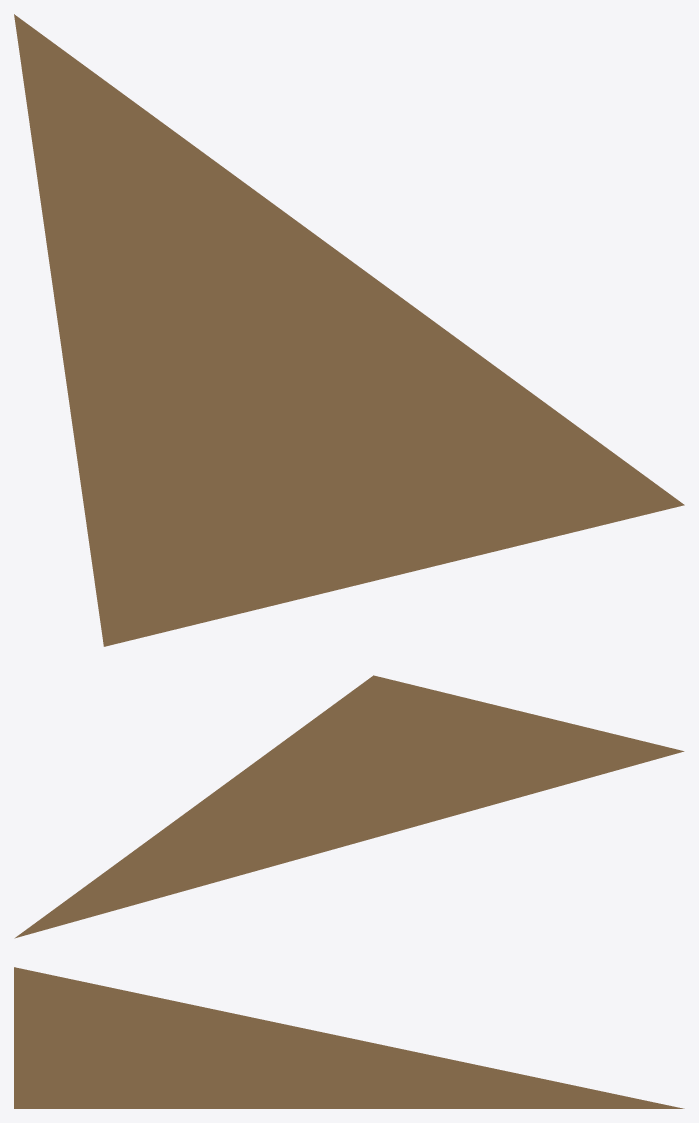
3 views of the same model, one above another, from view 1: azimuth 30°, elevation 25°; view 2: azimuth 150°, elevation 25°; view 3: azimuth 270°, elevation 25° (orthographic). The views are drawn at different scales.
Parts seen in each view (by area): view 1: A2-STAIR-T02; view 2: A2-STAIR-T02; view 3: A2-STAIR-T02.
Boxes of the visible parts, x1,y1,x2,y2 form: A2-STAIR-T02: (14,14,684,646); A2-STAIR-T02: (14,675,684,938); A2-STAIR-T02: (14,967,684,1108).
Bounding box in the file's own units: 0.525 × 2.78e-16 × 1.05.
